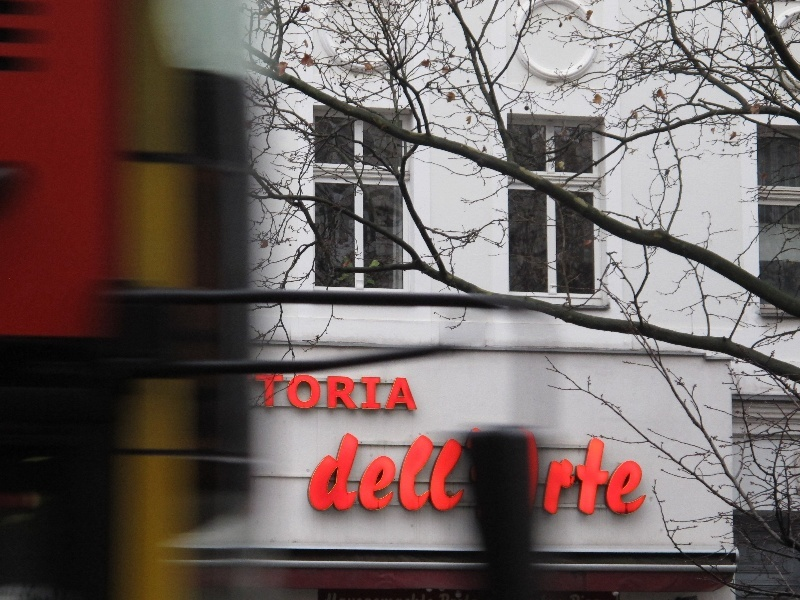text: (561, 438, 576, 518), (577, 438, 592, 518), (593, 438, 608, 518), (609, 438, 624, 518), (625, 438, 640, 518), (337, 433, 352, 513), (353, 433, 368, 513), (369, 433, 384, 513), (385, 433, 400, 513), (401, 433, 416, 513), (417, 433, 432, 513), (433, 433, 448, 513), (449, 433, 464, 513), (322, 433, 336, 513), (641, 438, 654, 518), (552, 438, 560, 518), (257, 374, 272, 410), (273, 374, 288, 410), (289, 374, 304, 410), (305, 374, 320, 410), (321, 374, 336, 410), (337, 374, 352, 410), (353, 374, 368, 410), (369, 374, 384, 410), (385, 374, 400, 410), (401, 374, 416, 410), (465, 433, 471, 513), (254, 374, 256, 410), (417, 374, 418, 410)
